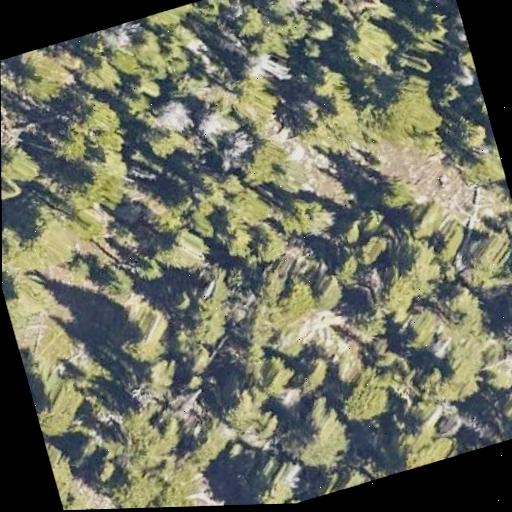tree-top: (38, 85, 139, 185), (273, 392, 366, 480), (370, 63, 451, 148), (105, 289, 180, 371), (8, 37, 89, 111), (444, 216, 512, 300), (332, 4, 409, 78), (380, 408, 465, 474), (27, 362, 97, 441), (328, 357, 400, 432), (381, 225, 453, 300), (171, 278, 240, 355), (108, 449, 194, 509), (224, 62, 295, 133), (433, 325, 498, 395), (112, 415, 180, 481), (152, 218, 219, 281), (120, 350, 186, 411), (280, 185, 344, 247), (237, 451, 303, 505), (392, 297, 451, 357), (313, 452, 390, 496), (302, 95, 363, 149), (220, 178, 276, 235), (188, 157, 249, 209), (179, 412, 232, 465), (321, 333, 373, 386), (273, 266, 325, 319), (248, 258, 299, 311), (75, 46, 125, 98), (1, 137, 47, 193), (67, 157, 117, 207), (248, 351, 300, 399), (149, 88, 197, 138), (215, 217, 263, 267), (292, 347, 338, 398), (92, 258, 139, 307), (372, 170, 420, 217), (209, 375, 255, 424), (244, 218, 289, 268), (234, 135, 280, 183), (305, 266, 350, 314), (301, 58, 346, 106), (449, 110, 492, 159), (19, 205, 61, 253), (138, 1, 202, 32), (447, 288, 493, 331), (45, 438, 75, 498), (226, 0, 268, 42), (349, 198, 390, 238), (242, 311, 278, 352), (130, 27, 164, 66), (307, 12, 341, 47), (166, 184, 201, 218), (69, 433, 99, 469), (2, 276, 29, 312), (392, 0, 455, 15), (256, 25, 285, 55), (130, 66, 157, 96), (492, 386, 512, 423), (90, 459, 117, 484), (501, 262, 512, 311)
